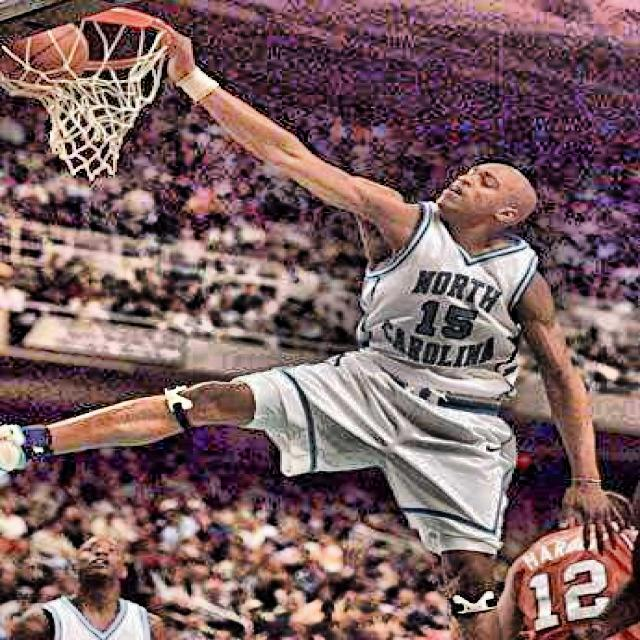rim: (0, 9, 173, 181)
